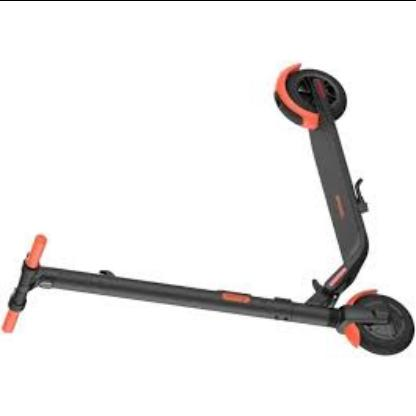bike: (1, 63, 416, 358)
